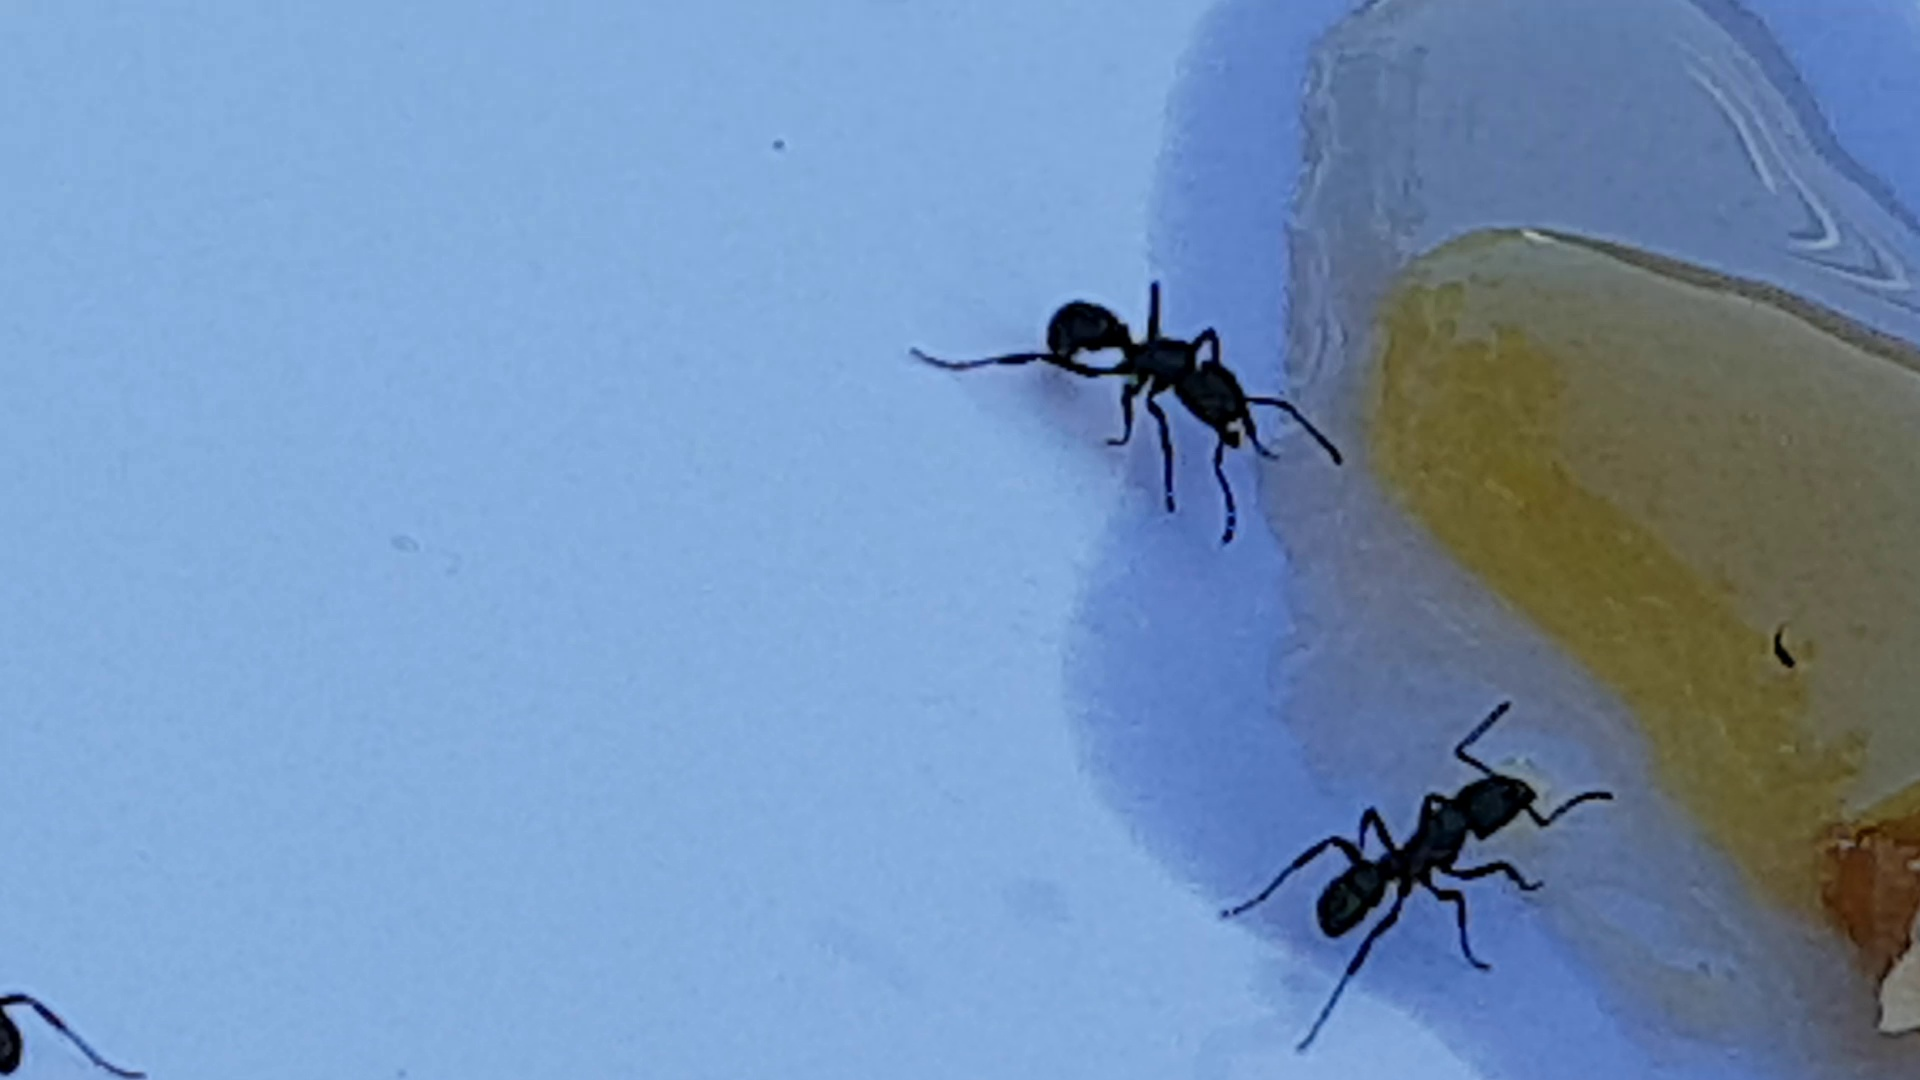sample_ants: (1205, 684, 1629, 1062), (895, 225, 1357, 560)
